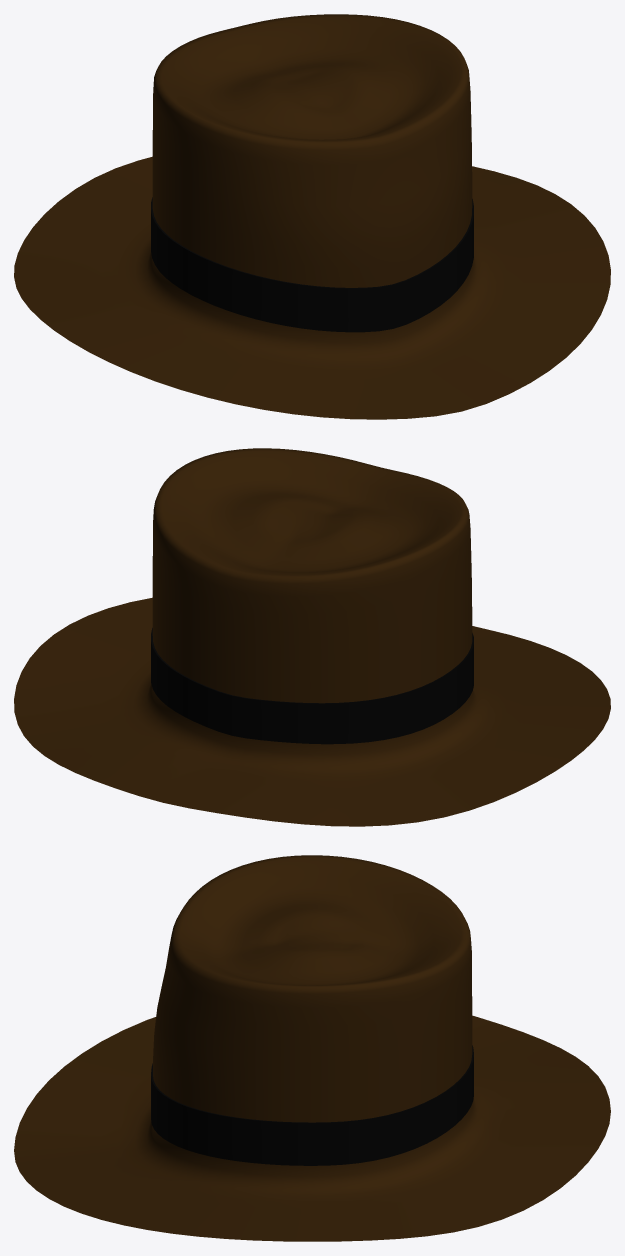
File: Hat.fbx
The picture shows the model from 3 angles, top to bottom: view 1: azimuth 30°, elevation 25°; view 2: azimuth 150°, elevation 25°; view 3: azimuth 270°, elevation 25°; orthographic projection.
Parts seen in each view (by area): view 1: Hat; view 2: Hat; view 3: Hat.
Boxes of the visible parts, x1,y1,x2,y2 form: Hat: (14,14,610,419); Hat: (14,448,610,826); Hat: (14,855,610,1241).
Bounding box in the file's own units: 45.77 × 19.39 × 45.77.
